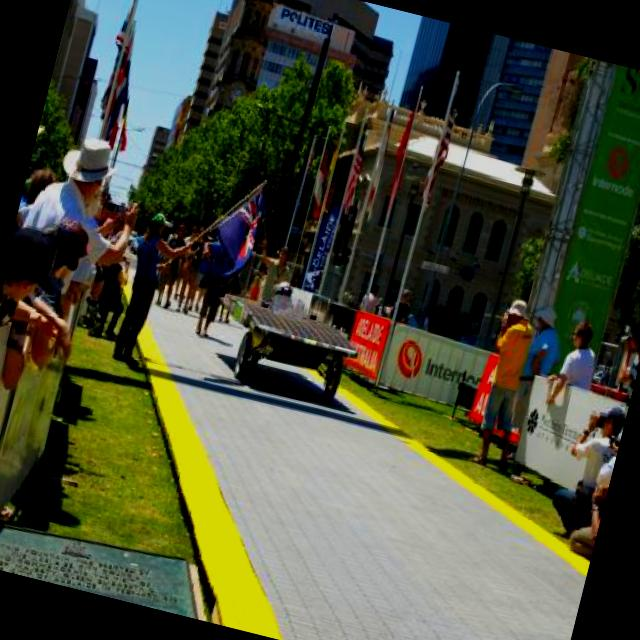Person: (0, 116, 155, 310), (462, 288, 554, 476), (546, 401, 625, 545), (550, 317, 606, 393)
